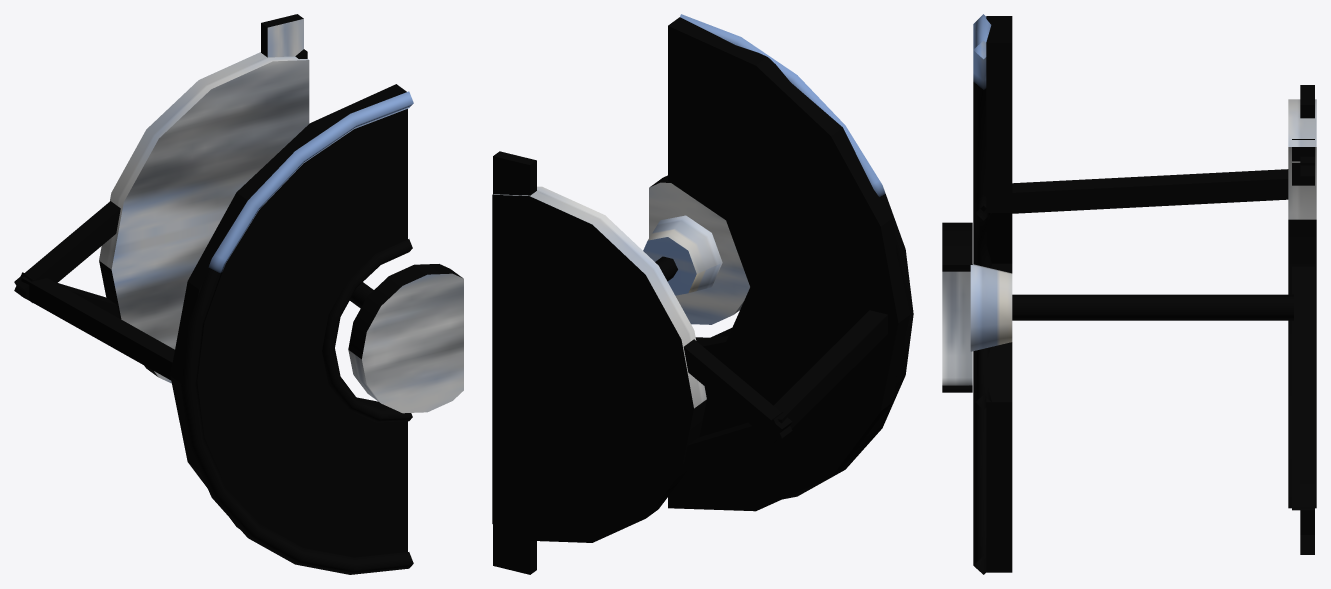
File: section-2.obj
The picture shows the model from 3 angles, left to right: view 1: azimuth 30°, elevation 25°; view 2: azimuth 150°, elevation 25°; view 3: azimuth 270°, elevation 25°; orthographic projection. The views are drawn at different scales.
Bounding box in the file's own units: 0.7021 × 1.13 × 0.717.
